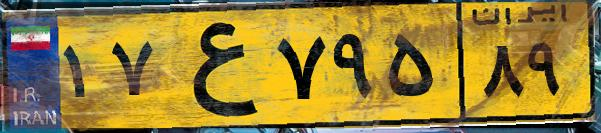1: (57, 26, 110, 100)
5: (385, 28, 445, 110)
7: (270, 28, 330, 110), (110, 28, 158, 98)
8: (475, 38, 525, 113)
9: (330, 28, 385, 110), (525, 38, 570, 115)
ع: (158, 12, 270, 120)
